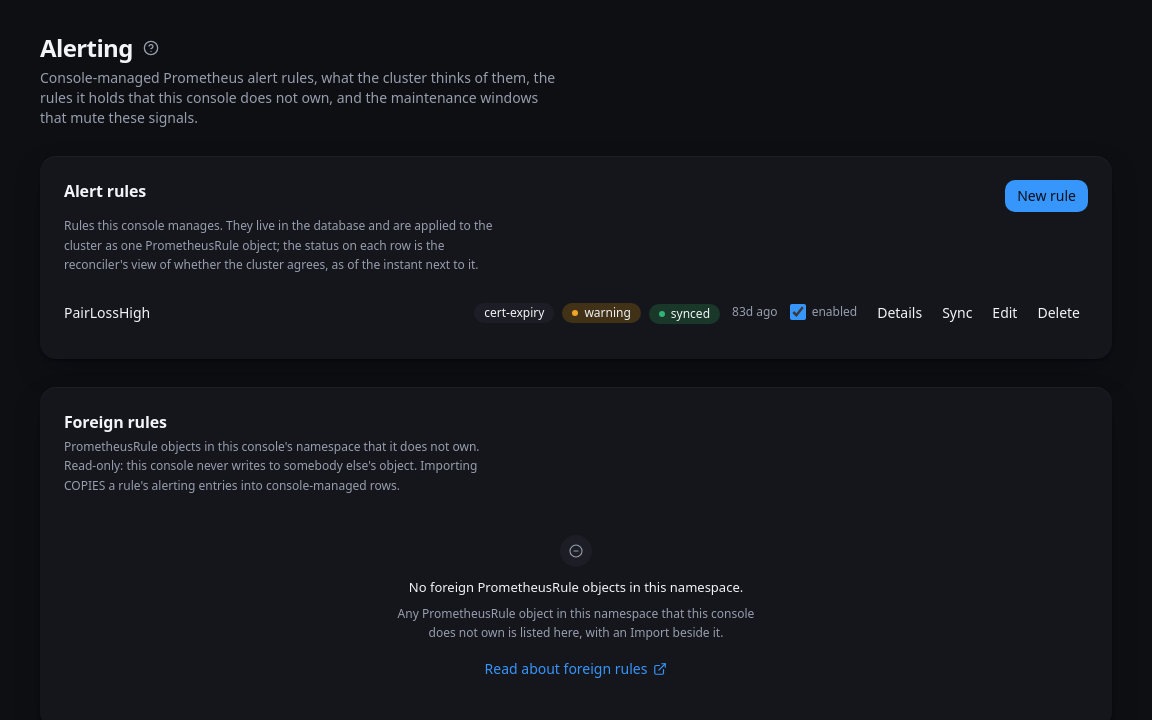
it: rule rows with hostile content › opens a rule whose kind this build has no template for, with no param boxes
Click the button with aria-label "Edit PairLossHigh": {"x": 1005, "y": 312} x1=984 y1=298 x2=1026 y2=326
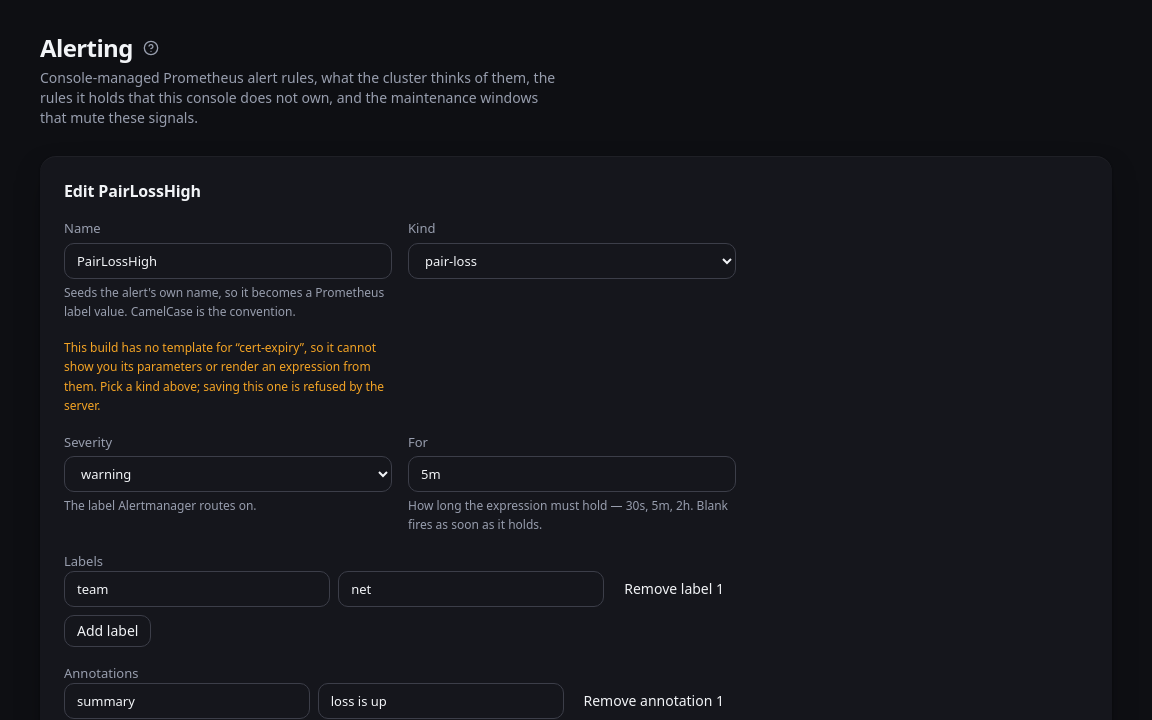
Now the text with test id "unknown-kind" shows "cert-expiry", box x1=64 y1=338 x2=384 y2=414
